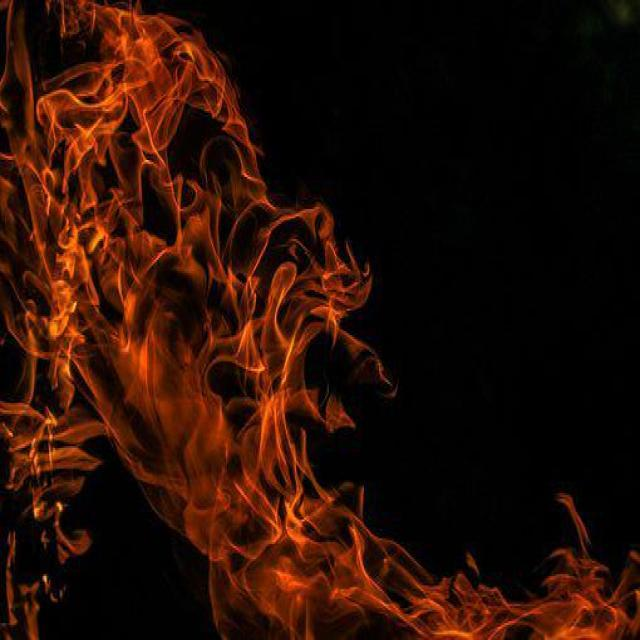Fire: (0, 1, 239, 520), (242, 132, 352, 638), (353, 516, 639, 640)
